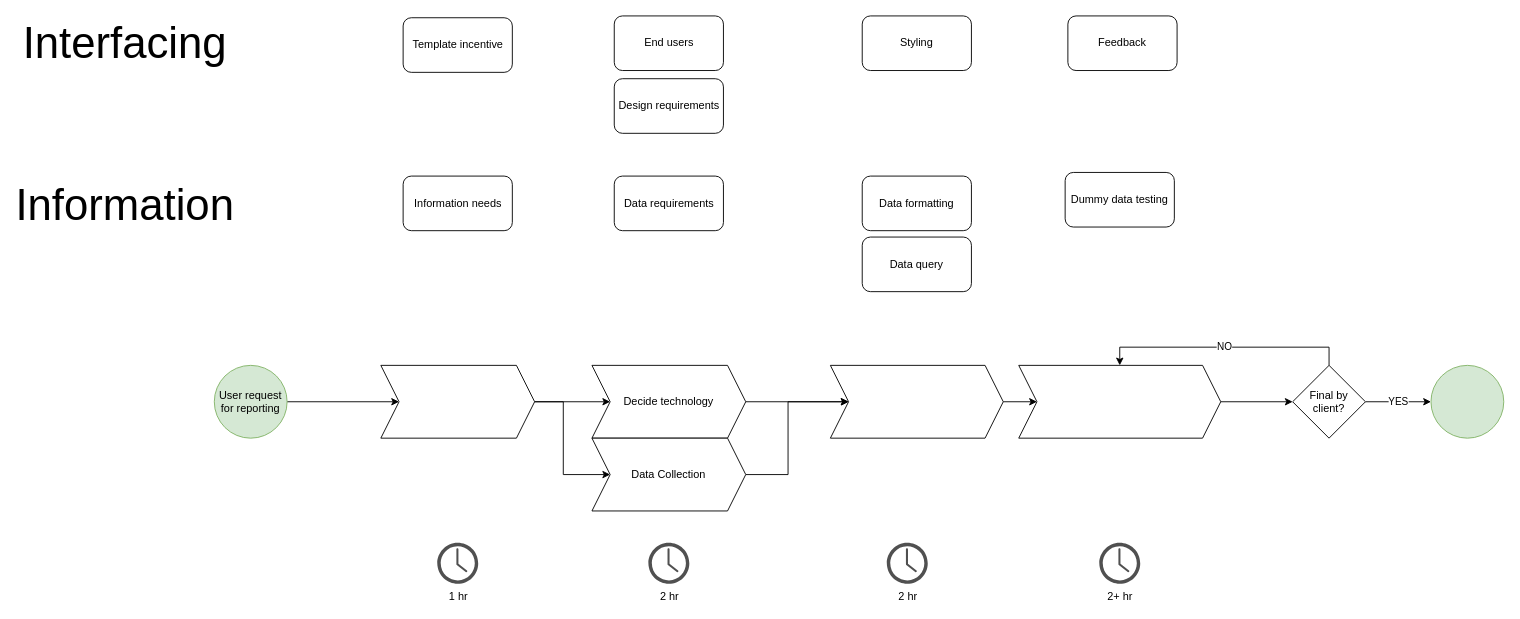
This 1520x619 diagram has some shape labels left out. Here are the shapes that lost their labels. From the top down, the centre of each, then its label:
the point at 457,401: Interview Client
the point at 916,401: Template building
the point at 1119,401: Testing and Final adjustsments
the point at 1467,401: Template defnitive
